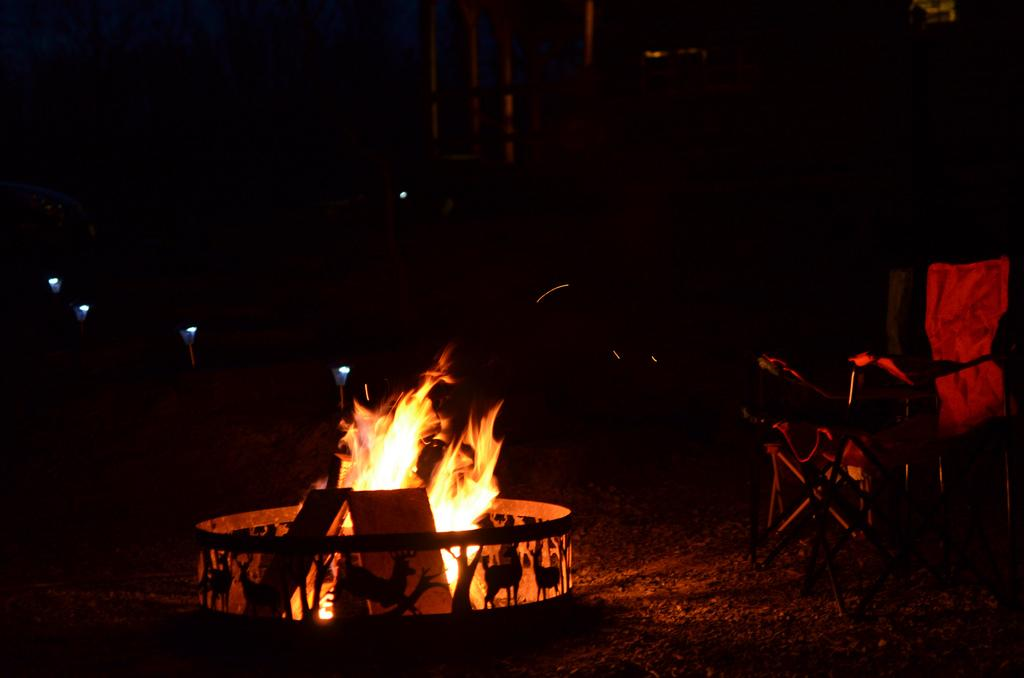fire: (352, 408, 410, 488), (432, 468, 487, 528)
